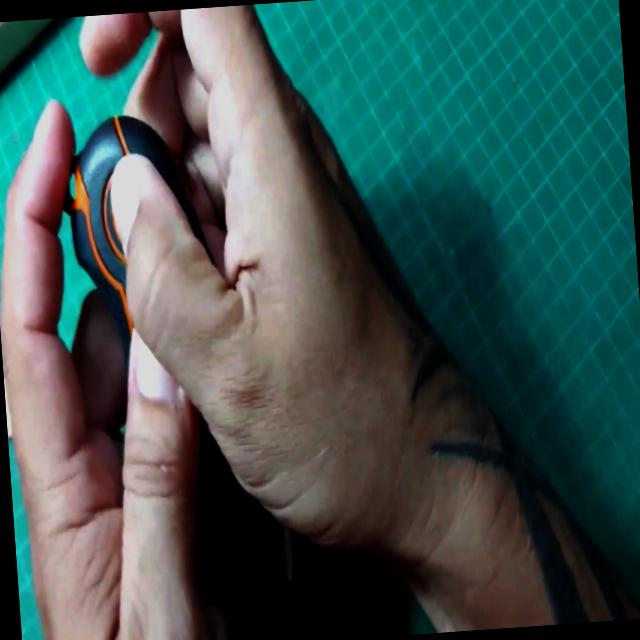cutter: (0, 1, 340, 640)
